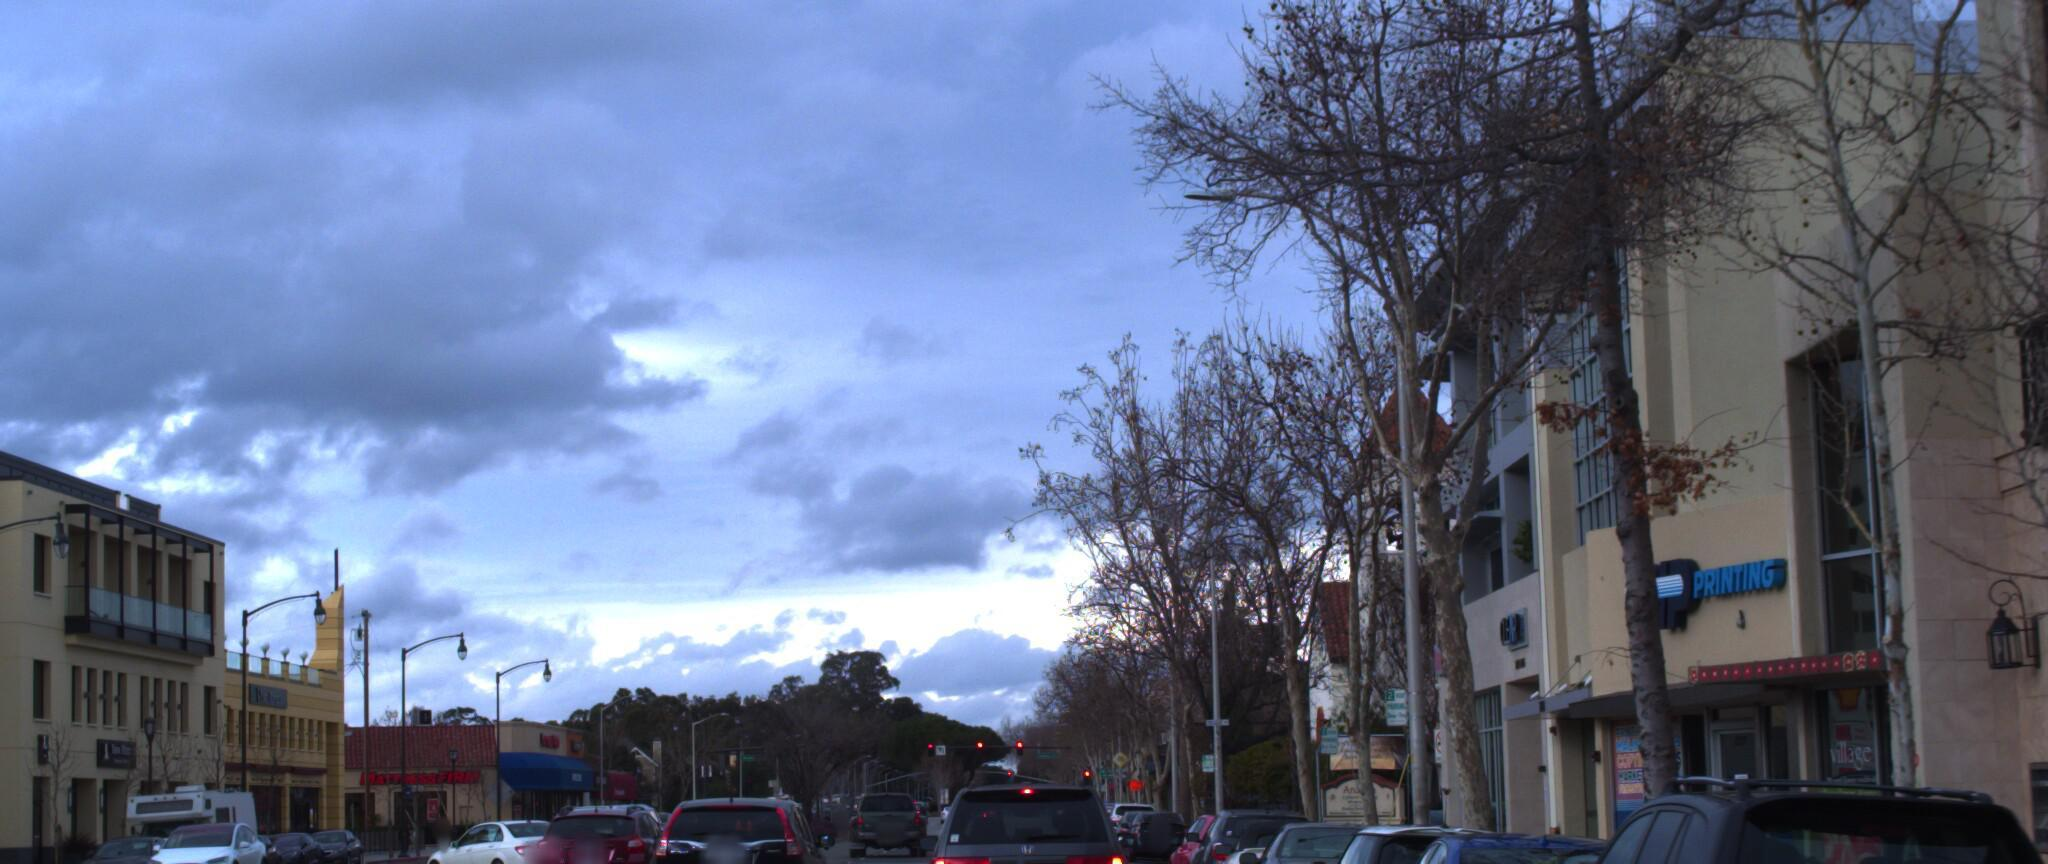car: (1460, 748, 2048, 864), (912, 761, 1123, 864), (401, 775, 613, 864), (1361, 814, 1718, 864), (1755, 807, 2048, 864), (630, 788, 835, 864), (1290, 812, 1567, 864), (1230, 807, 1451, 864), (1173, 794, 1330, 864), (517, 792, 665, 864), (1211, 805, 1382, 864), (148, 807, 274, 864), (0, 780, 42, 864)
